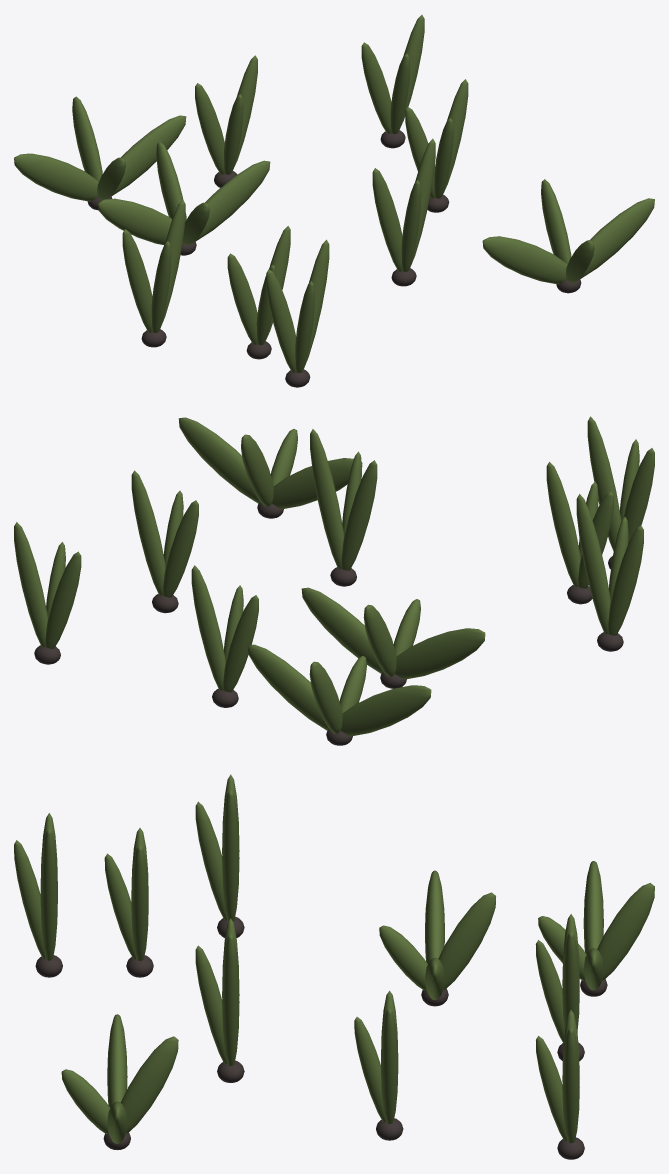
File: CMU3DRMCGrassa5.glb
3 views of the same model, one above another, from view 1: azimuth 30°, elevation 25°; view 2: azimuth 150°, elevation 25°; view 3: azimuth 270°, elevation 25° (orthographic). The views are drawn at different scales.
Parts seen in each view (by area): view 1: tuft 5 continuous leaf 0, tuft 6 continuous leaf 0, tuft 8 continuous leaf 0, tuft 5 continuous leaf 1, tuft 8 continuous leaf 1, tuft 6 continuous leaf 1, tuft 2 continuous leaf 0, tuft 3 continuous leaf 0, tuft 9 continuous leaf 0, tuft 7 continuous leaf 0, tuft 4 continuous leaf 0, tuft 0 continuous leaf 0 (+21 smaller); view 2: tuft 8 continuous leaf 0, tuft 6 continuous leaf 0, tuft 5 continuous leaf 1, tuft 6 continuous leaf 1, tuft 8 continuous leaf 1, tuft 2 continuous leaf 1, tuft 3 continuous leaf 1, tuft 1 continuous leaf 1, tuft 4 continuous leaf 1, tuft 0 continuous leaf 1, tuft 7 continuous leaf 1, tuft 5 continuous leaf 0 (+20 smaller); view 3: tuft 5 continuous leaf 2, tuft 6 continuous leaf 2, tuft 8 continuous leaf 2, tuft 3 continuous leaf 1, tuft 9 continuous leaf 1, tuft 2 continuous leaf 1, tuft 4 continuous leaf 1, tuft 7 continuous leaf 1, tuft 1 continuous leaf 1, tuft 2 continuous leaf 2, tuft 3 continuous leaf 2, tuft 9 continuous leaf 2 (+14 smaller).
Part boxes in pixels (box(x1,y1,x2,y2)): tuft 5 continuous leaf 0: box(482, 236, 567, 284); tuft 6 continuous leaf 0: box(14, 153, 98, 201); tuft 8 continuous leaf 0: box(98, 198, 172, 244); tuft 5 continuous leaf 1: box(580, 198, 654, 278); tuft 8 continuous leaf 1: box(195, 160, 270, 241); tuft 6 continuous leaf 1: box(111, 115, 186, 196); tuft 2 continuous leaf 0: box(122, 229, 152, 332); tuft 3 continuous leaf 0: box(372, 168, 402, 271); tuft 9 continuous leaf 0: box(266, 269, 296, 372); tuft 7 continuous leaf 0: box(361, 42, 391, 133); tuft 4 continuous leaf 0: box(227, 253, 257, 344); tuft 0 continuous leaf 0: box(195, 83, 224, 174); tuft 8 continuous leaf 0: box(395, 628, 485, 679); tuft 6 continuous leaf 0: box(341, 685, 431, 736); tuft 5 continuous leaf 1: box(178, 417, 260, 503); tuft 6 continuous leaf 1: box(247, 644, 329, 730); tuft 8 continuous leaf 1: box(301, 587, 383, 673); tuft 2 continuous leaf 1: box(576, 494, 610, 633); tuft 3 continuous leaf 1: box(310, 429, 343, 568); tuft 1 continuous leaf 1: box(131, 470, 165, 595); tuft 4 continuous leaf 1: box(546, 462, 580, 586); tuft 0 continuous leaf 1: box(191, 565, 225, 690); tuft 7 continuous leaf 1: box(14, 522, 47, 646); tuft 5 continuous leaf 0: box(272, 458, 362, 509); tuft 5 continuous leaf 2: box(120, 1036, 178, 1133); tuft 6 continuous leaf 2: box(597, 883, 654, 979); tuft 8 continuous leaf 2: box(438, 892, 495, 989); tuft 3 continuous leaf 1: box(222, 933, 239, 1065); tuft 9 continuous leaf 1: box(40, 828, 57, 960); tuft 2 continuous leaf 1: box(222, 789, 239, 921); tuft 4 continuous leaf 1: box(131, 845, 148, 960); tuft 7 continuous leaf 1: box(562, 1027, 579, 1143); tuft 1 continuous leaf 1: box(381, 1007, 398, 1123); tuft 2 continuous leaf 2: box(195, 801, 226, 920); tuft 3 continuous leaf 2: box(195, 945, 226, 1063); tuft 9 continuous leaf 2: box(14, 840, 45, 958).
Size of the model in its own units: 0.9077 by 0.2506 by 0.8829.
